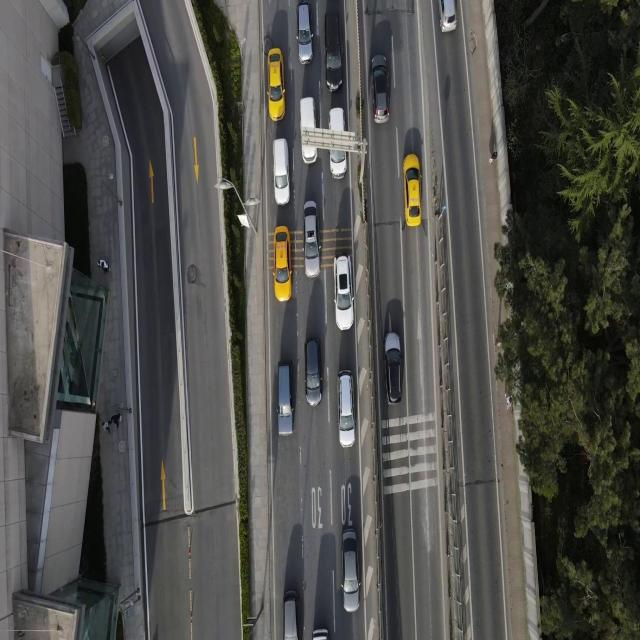p3rson: (98, 260, 108, 276), (111, 412, 120, 428), (504, 393, 512, 410), (102, 420, 111, 434), (102, 260, 112, 271), (491, 151, 498, 164)
